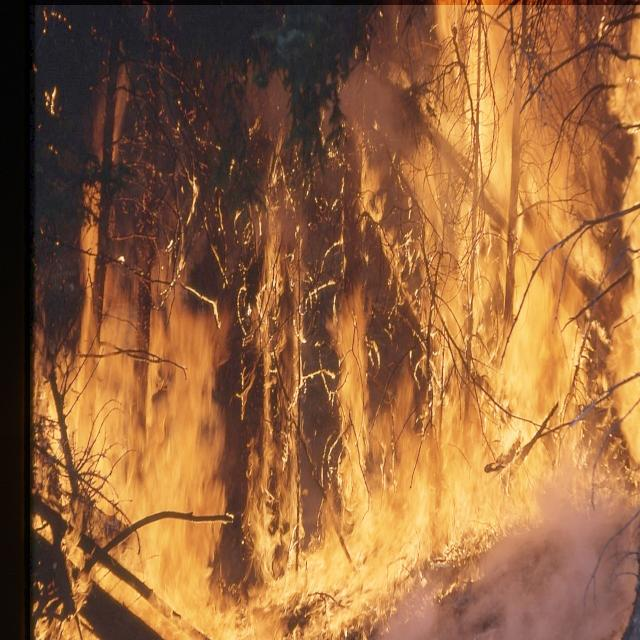Fire: (30, 5, 640, 640)
